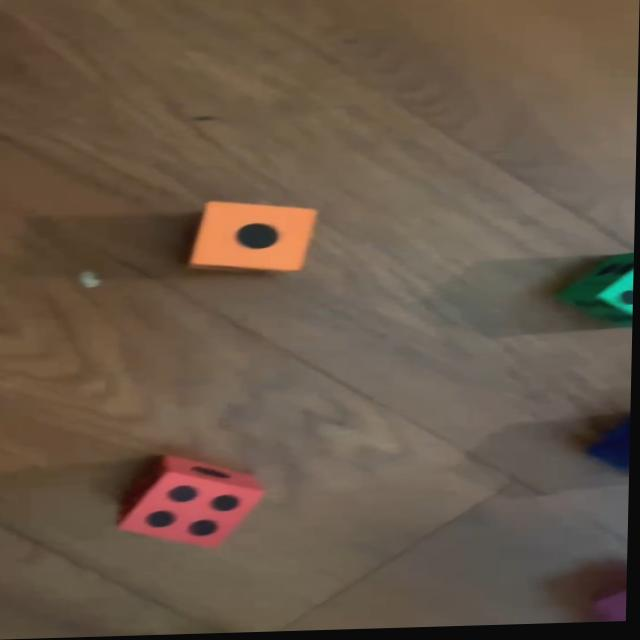blue_block: (593, 423, 632, 479)
red_block: (120, 455, 265, 551)
